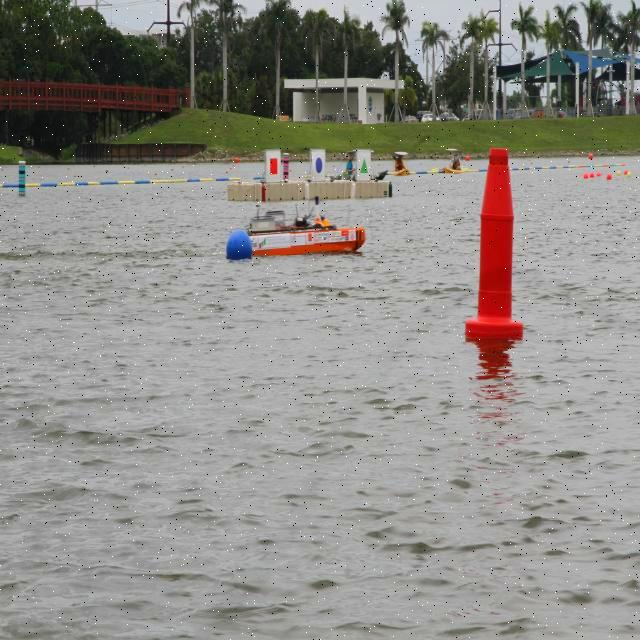buoy: (224, 230, 258, 264), (233, 155, 240, 164), (588, 152, 594, 160), (464, 154, 470, 162)
